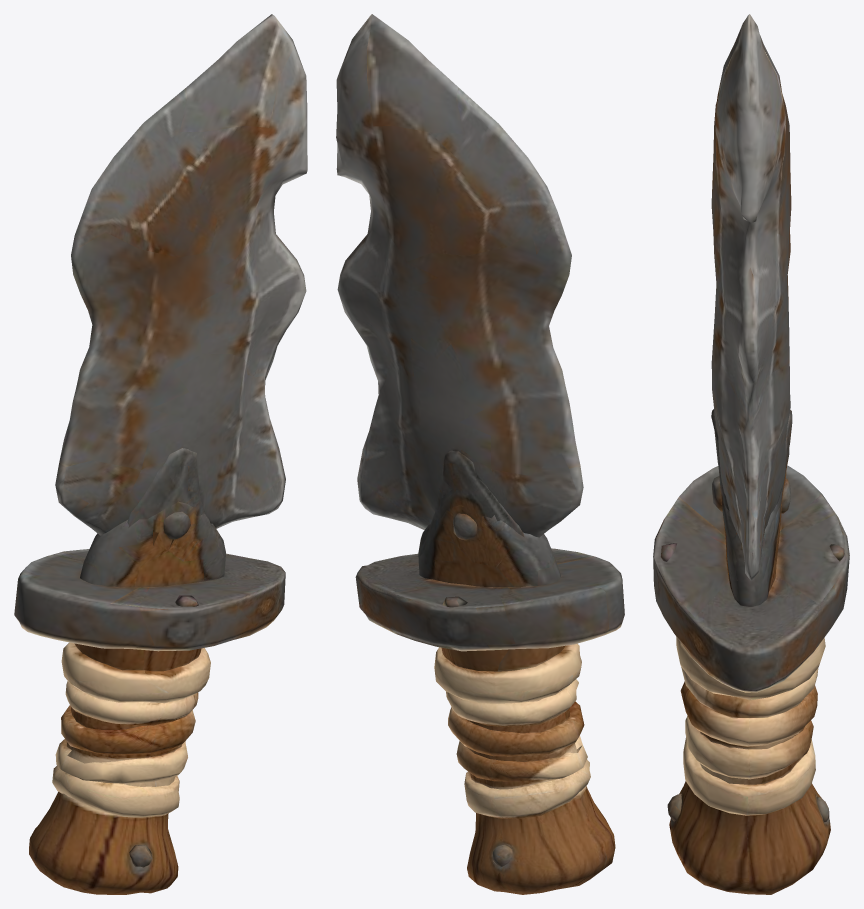
Rendered from daga.glb.
3 views of the same model, side by side, from view 1: azimuth 30°, elevation 25°; view 2: azimuth 150°, elevation 25°; view 3: azimuth 270°, elevation 25° (orthographic). The views are drawn at different scales.
Visible parts, largest first — view 1: daga; view 2: daga; view 3: daga.
Boxes of the visible parts, left/top/right/bottom form: daga: left=14, top=14, right=307, bottom=894; daga: left=336, top=14, right=624, bottom=894; daga: left=653, top=14, right=849, bottom=894.
Size of the model in its own units: 0.1767 by 0.5 by 0.0943.
1 material, 1 textured.
